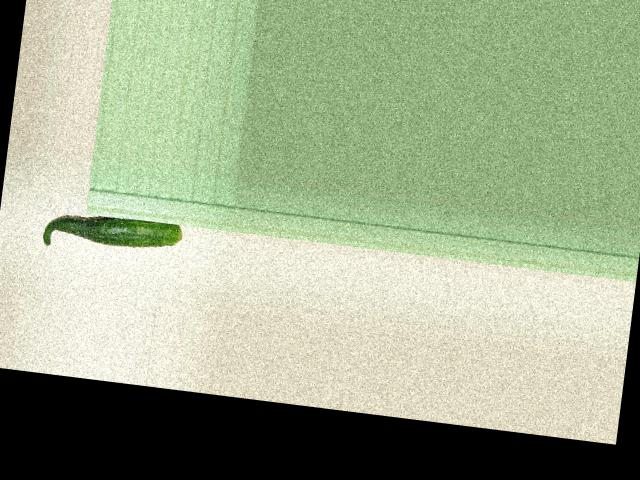cucumber: (41, 208, 182, 261)
